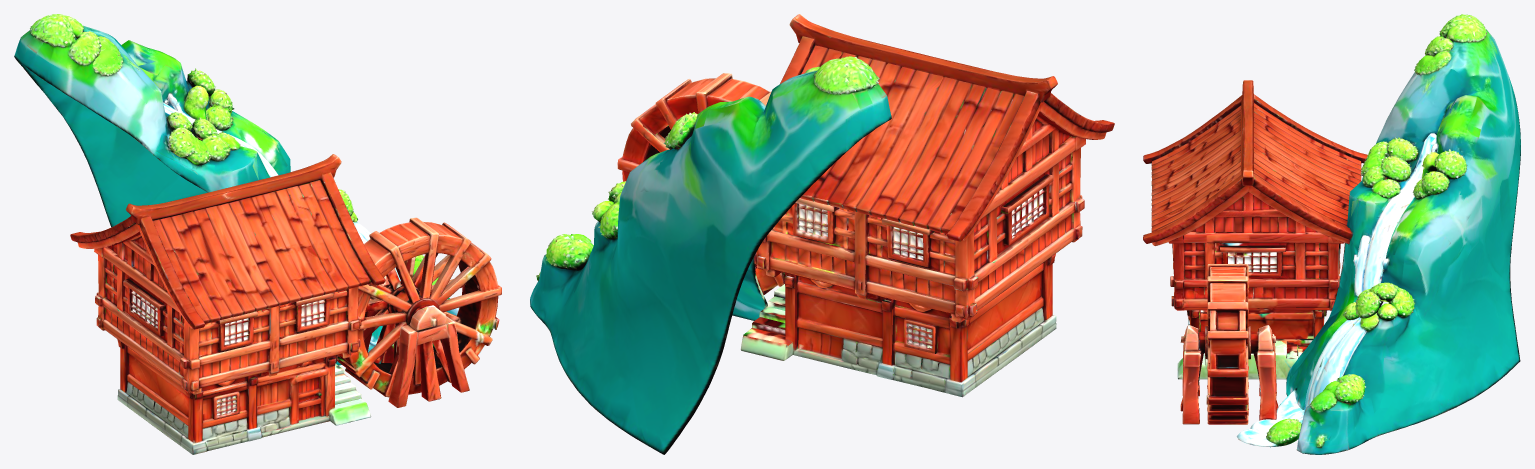
The model's file is ql_mill.glb.
3 renders of one model, left to right at view 1: azimuth 30°, elevation 25°; view 2: azimuth 150°, elevation 25°; view 3: azimuth 270°, elevation 25°, orthographic. The views are drawn at different scales.
Visible parts, largest first — view 1: ql_mill; view 2: ql_mill; view 3: ql_mill.
Part boxes in pixels (left/top/right/bottom): ql_mill: left=14, top=14, right=501, bottom=454; ql_mill: left=530, top=14, right=1114, bottom=454; ql_mill: left=1143, top=14, right=1520, bottom=454.
Size of the model in its own units: 8.41 by 7 by 8.06.
Materials: 1 (1 with a texture image).
